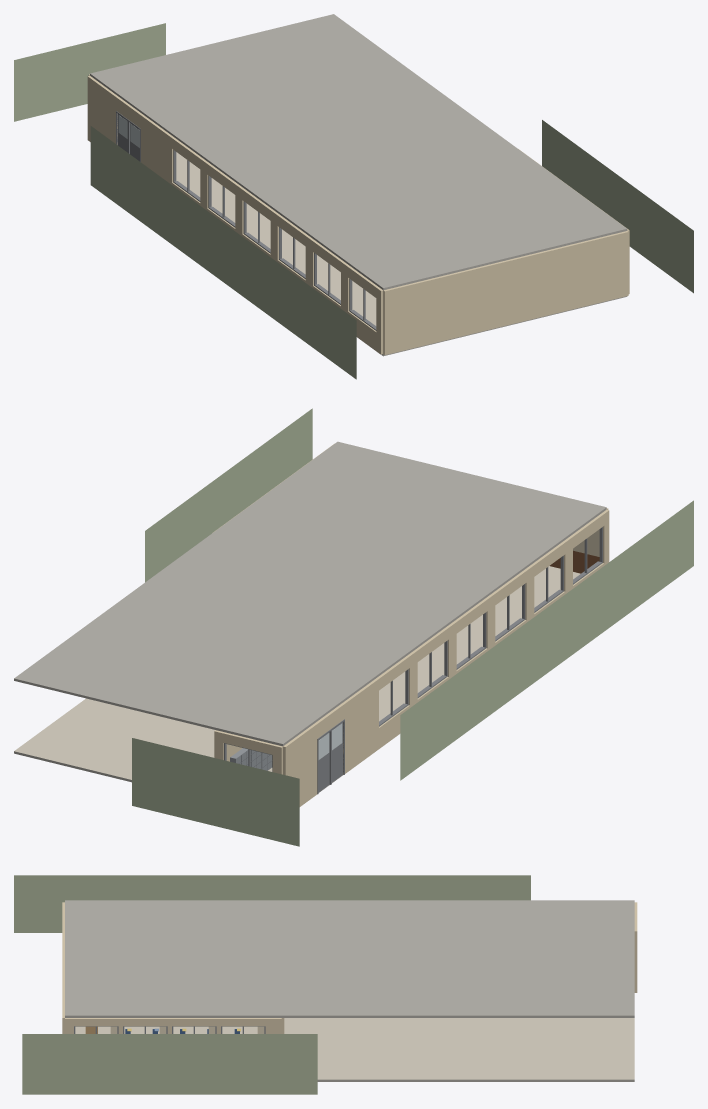
File: St_School.fbx
3 renders of one model, top to bottom at view 1: azimuth 30°, elevation 25°; view 2: azimuth 150°, elevation 25°; view 3: azimuth 270°, elevation 25°, orthographic. The views are drawn at different scales.
Visible parts, largest first — view 1: School_Shell_LOD0; view 2: School_Shell_LOD0; view 3: School_Shell_LOD0.
Boxes of the visible parts, box(x1,y1,x2,y2) form: School_Shell_LOD0: box(14, 14, 693, 379); School_Shell_LOD0: box(14, 408, 693, 846); School_Shell_LOD0: box(14, 875, 637, 1094).
Bounding box in the file's own units: 16.8 × 3.35 × 29.84.
